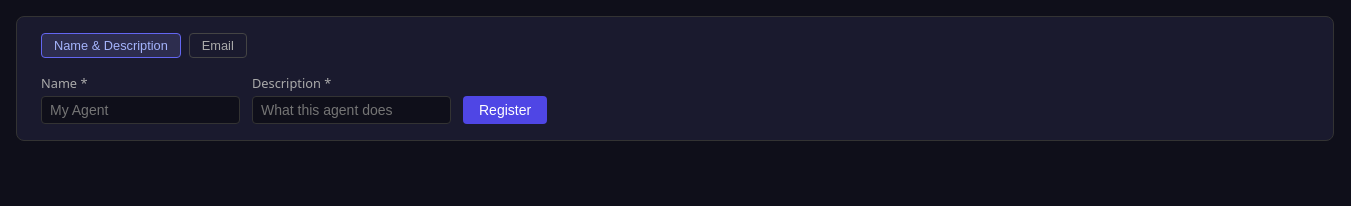
Scenario: RegisterPanel › shows network error on fetch failure
The image size is (1351, 206).
Type "TestAgent" into the field with test id "input-name". click: (140, 110)
box: [41,96,240,124]
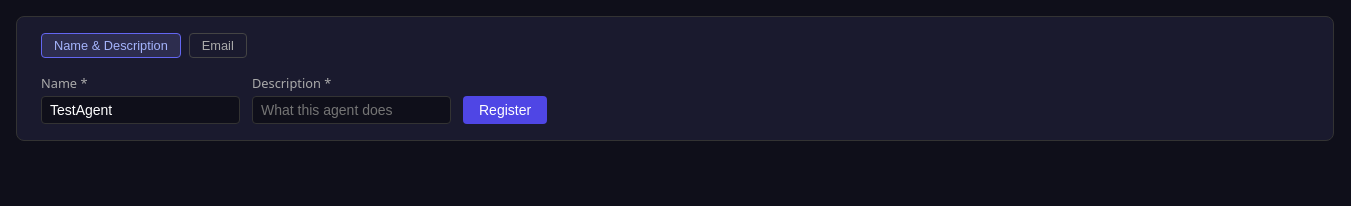
Type "A test agent" into the field with test id "input-description". click: (352, 110)
box: [252,96,451,124]
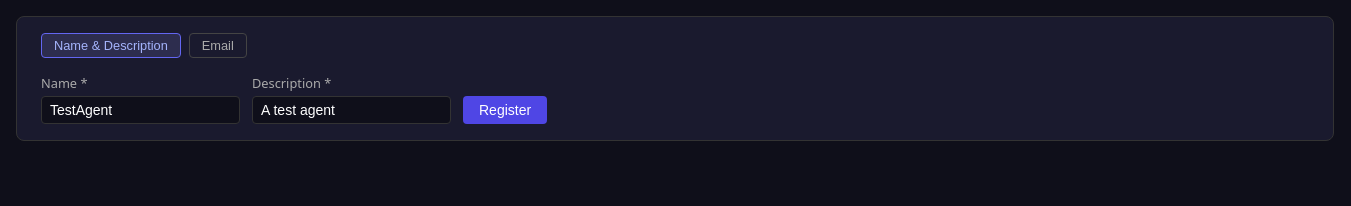
Click the button with test id "register-btn". click: (505, 110)
box: [463,96,547,124]
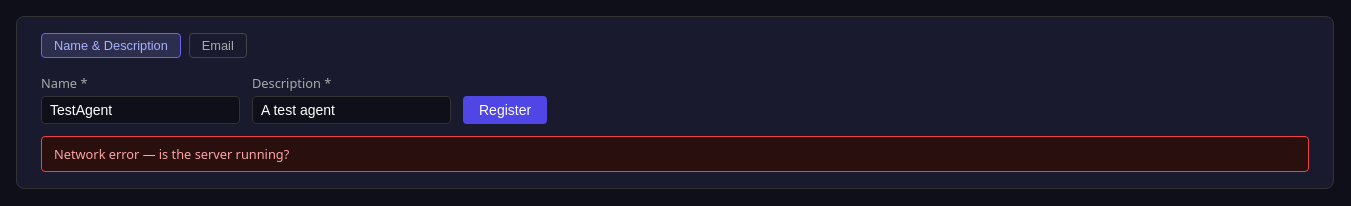
Result: the text with test id "register-error" shows "Network error" at [54,145,289,163]
